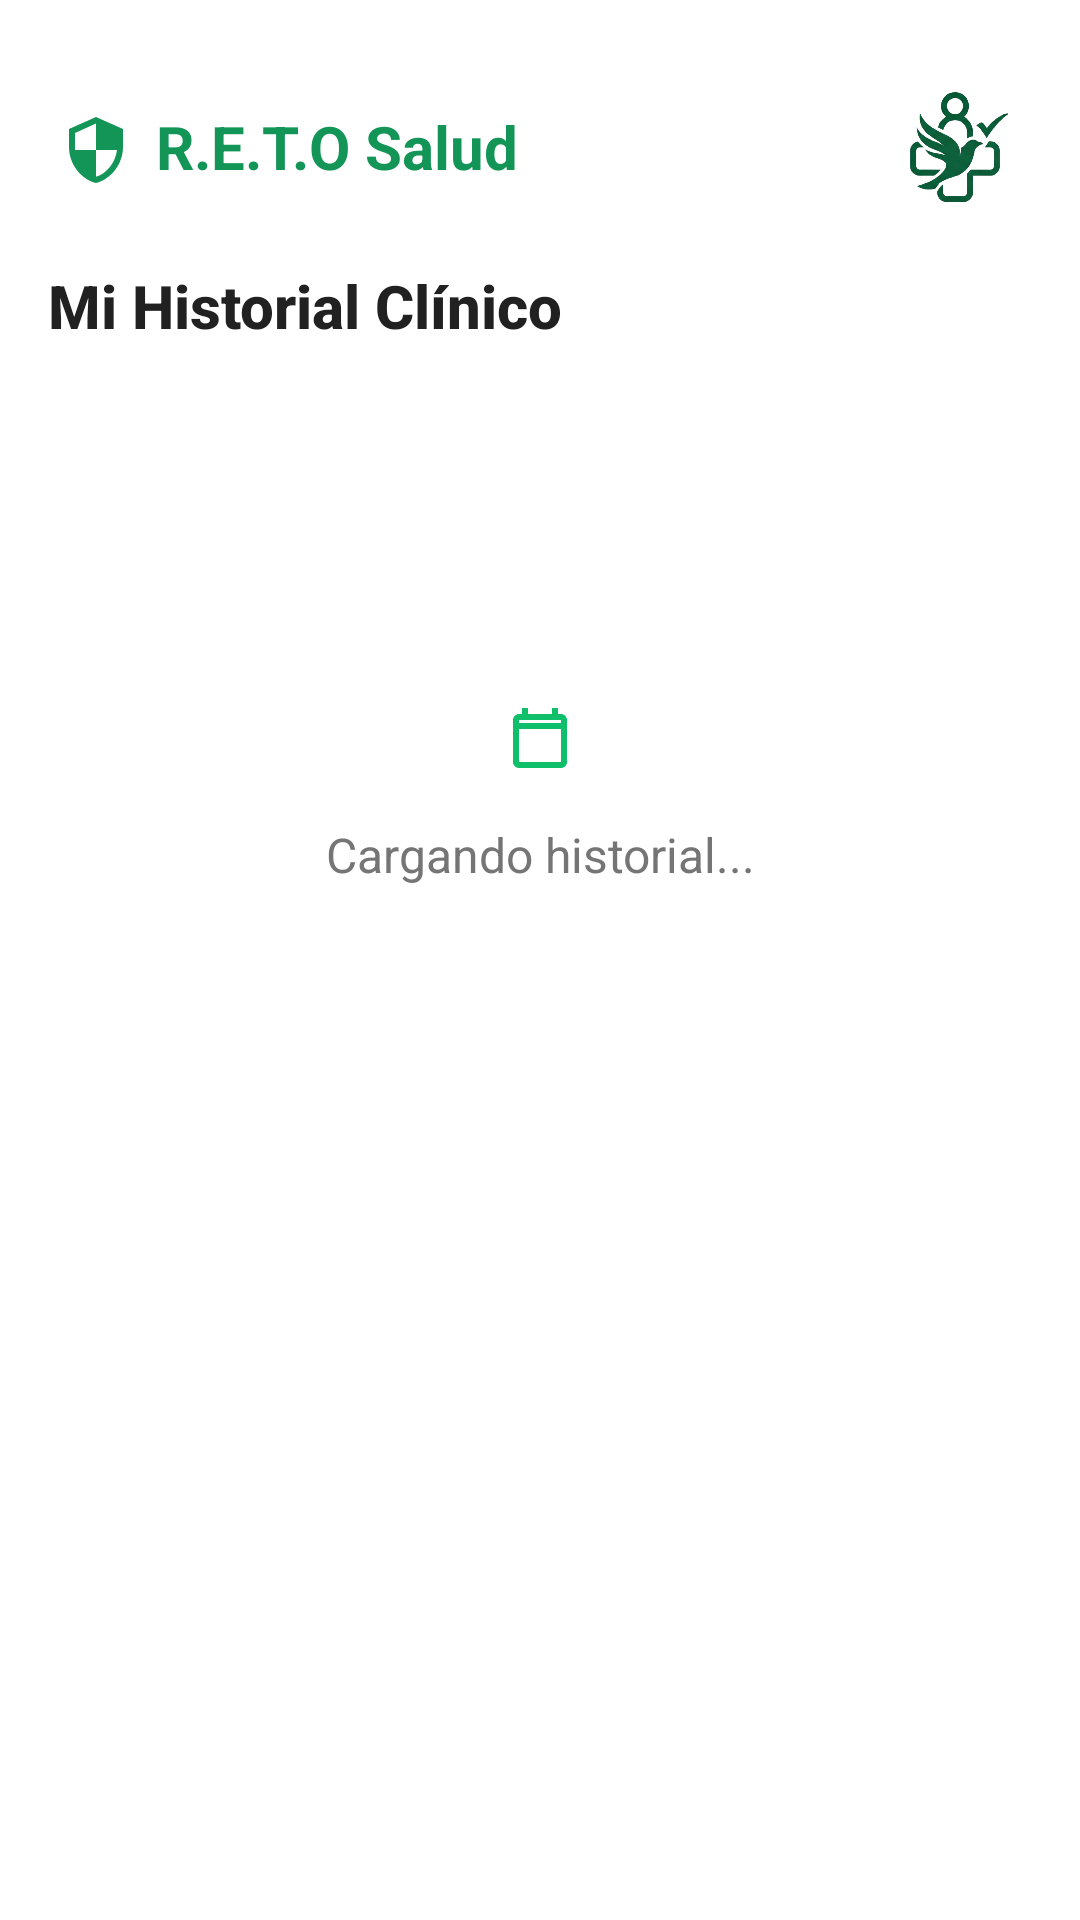

Screen size 1080 × 1920. Icon name, then its center in pixels as point (x, y):
shield: point (96, 150)
